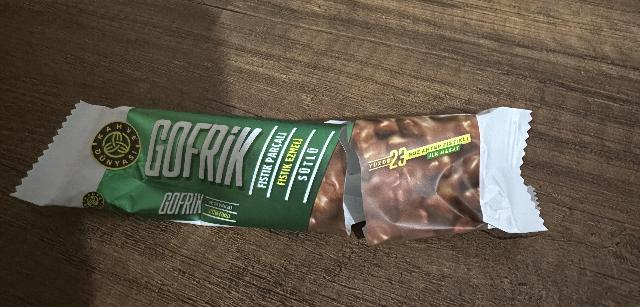Plastik: (8, 99, 549, 244)
